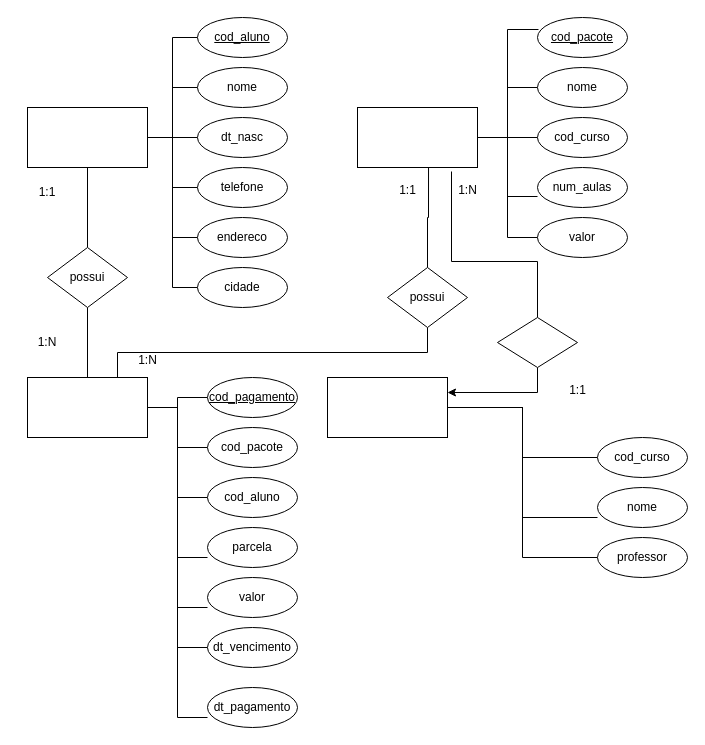
The diagram is 705 pixels wide and 745 high, and some of its shapes have lost their labels. Each missing label, with the box of its shape:
aluno: (26, 106, 148, 168)
curso: (326, 376, 448, 438)
pacote: (356, 106, 478, 168)
pagamento: (26, 376, 148, 438)
pertence: (496, 316, 578, 368)
